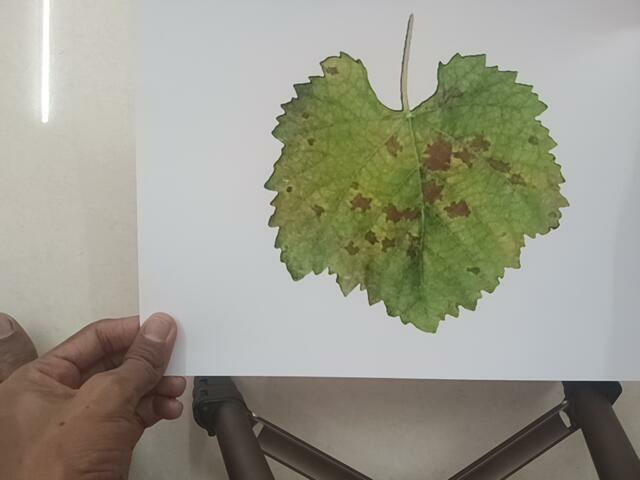Grape_Leaf_Vine_Disease: (254, 18, 572, 370)
